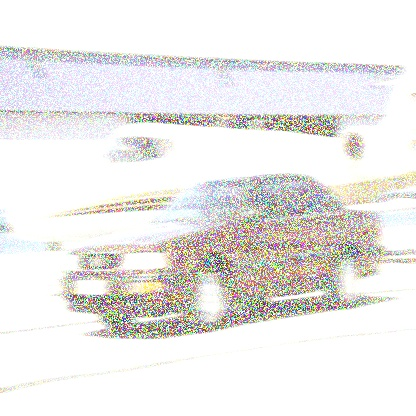Vehicle: (61, 173, 386, 335)
